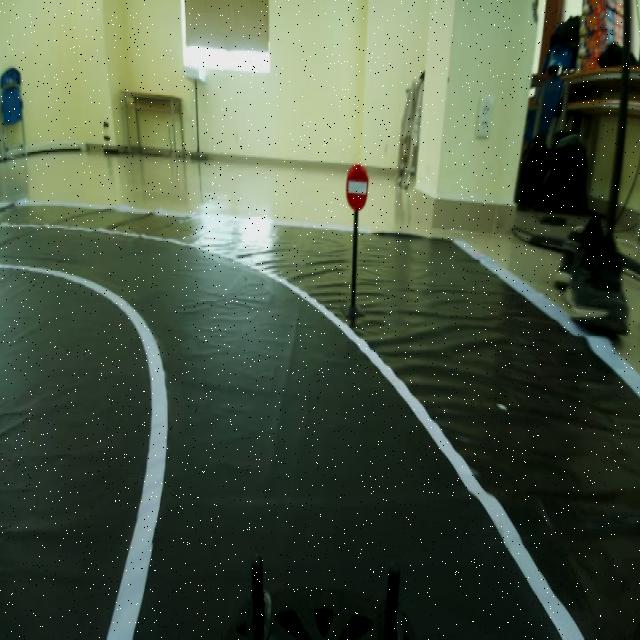no_entry: (340, 164, 374, 208)
